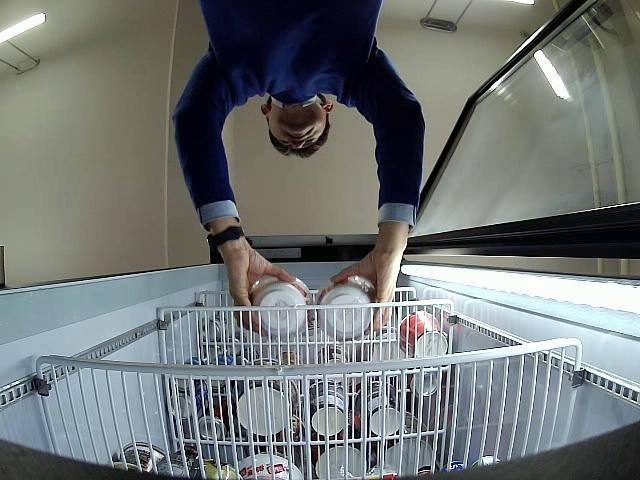09_yukGaeJang: (248, 276, 314, 340), (315, 278, 376, 337)
